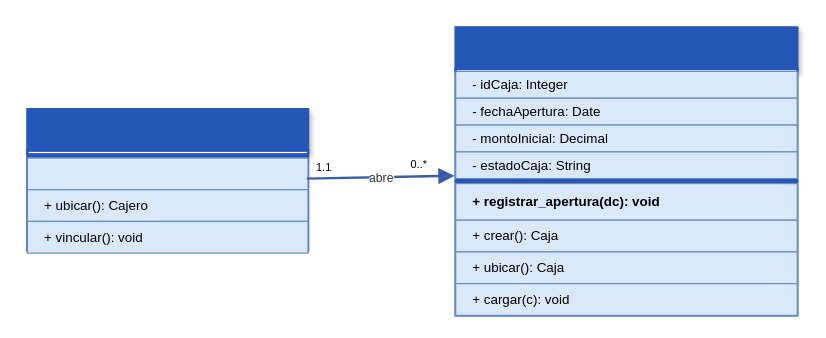
This 826x338 diagram has some shape labels left out. The centre of each missing label's shape, as x and y in pixels:
"+ buscar(idUsuario): Cajero" goes at [167,173].
"Caja" goes at [627,51].
"Cajero" goes at [168,132].
